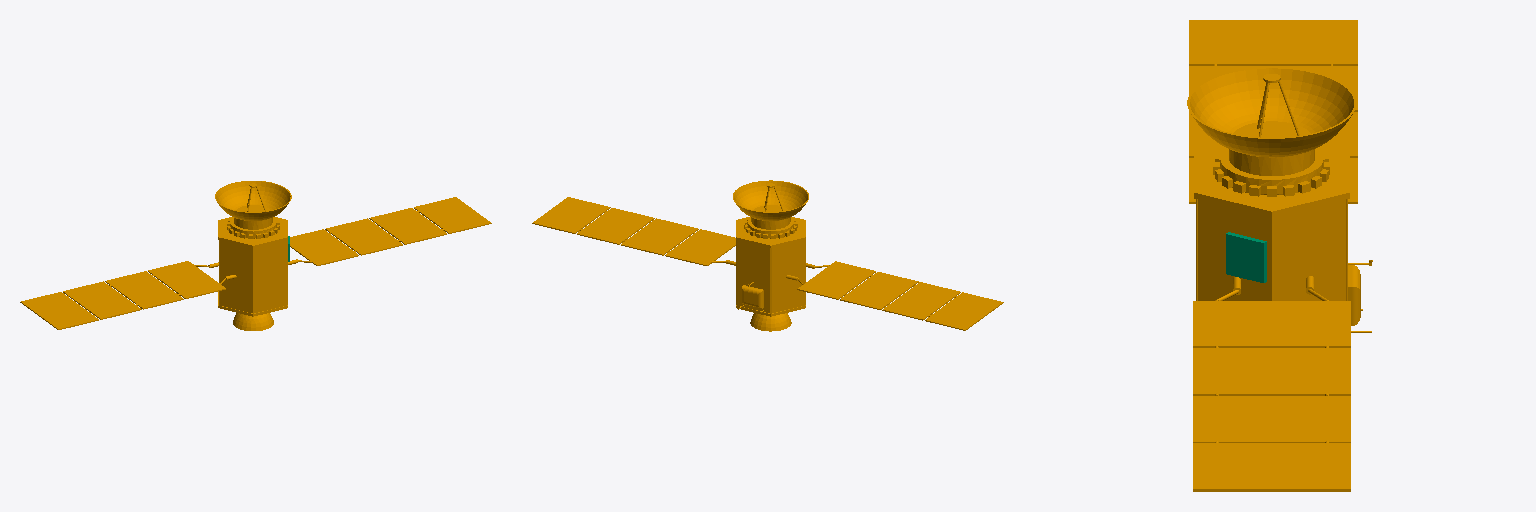
URDF robot description (satellite_model1):
<?xml version='1.0' encoding='utf-8'?>
<robot name="satellite_model1">
  <link name="base_link">
    <visual>
      <geometry>
        <mesh filename="satellite.stl" />
      </geometry>
    </visual>
    <collision>
      <geometry>
        <mesh filename="satellite.stl" />
      </geometry>
    </collision>
  </link>
  <link name="satellite_model1_mount" />
  <joint name="satellite_mount_fixed" type="fixed">
    <parent link="base_link" />
    <child link="satellite_model1_mount" />
    <origin xyz="0.5324822822133548 -0.1754639344281227 0.8381867257517503" rpy="-1.161091223167432e-10 -1.5707959412852832 2.617993232740724" />
  </joint>
  <link name="mount_support">
    <visual>
      <geometry>
        <mesh filename="mount_support.stl" />
      </geometry>
    </visual>
    <collision>
      <geometry>
        <mesh filename="mount_support.stl" />
      </geometry>
    </collision>
  </link>
  <joint name="support_fixed" type="fixed">
    <parent link="satellite_model1_mount" />
    <child link="mount_support" />
    <origin xyz="0 0 0" rpy="0 0 0" />
  </joint>
</robot>

--- Render facts (derived) ---
3 views of the same robot in one strip: view 1: azimuth 30°, elevation 25°; view 2: azimuth 150°, elevation 25°; view 3: azimuth 270°, elevation 25° (orthographic).
Model satellite_model1 with 3 links and 2 joints (2 fixed), rooted at base_link, posed all joints at 0.
Links seen in each view (by area): view 1: base_link; view 2: base_link; view 3: base_link, mount_support.
Link boxes in pixels (x1,y1,x2,y2): base_link: [20, 181, 491, 330]; base_link: [532, 180, 1003, 331]; base_link: [1187, 20, 1372, 491]; mount_support: [1226, 232, 1266, 282].
Size in the robot's own frame: 8 by 1.34 by 2.42 metres.
Meshes: 2 distinct files referenced, 2 mesh visuals loaded (2 binary STL).
